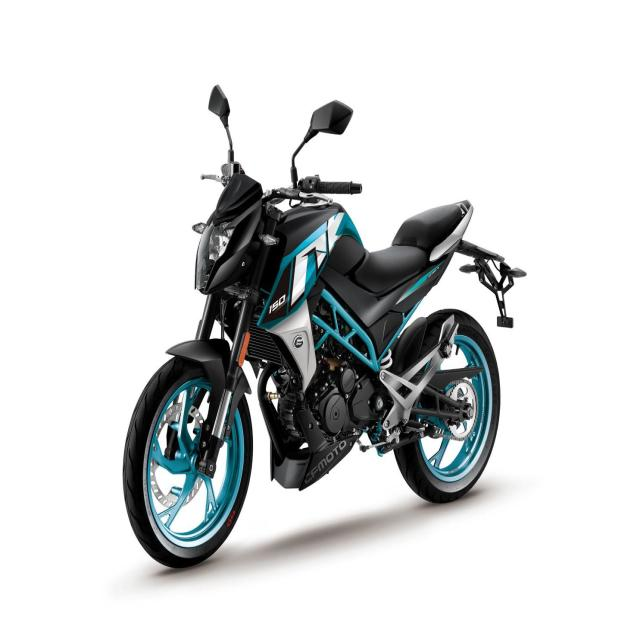Motorcycle: (122, 151, 526, 568)
